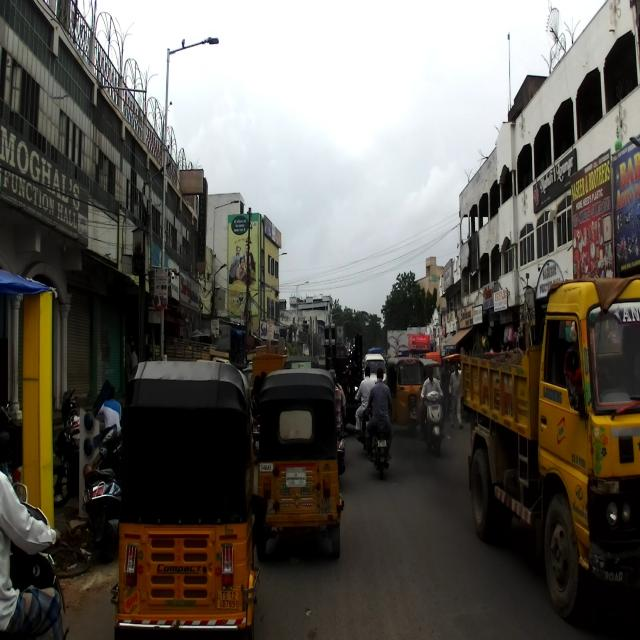autorickshaw: (108, 360, 268, 638), (254, 366, 345, 562)
scooter: (10, 492, 70, 639), (82, 424, 126, 562)
truck: (459, 273, 640, 624)
